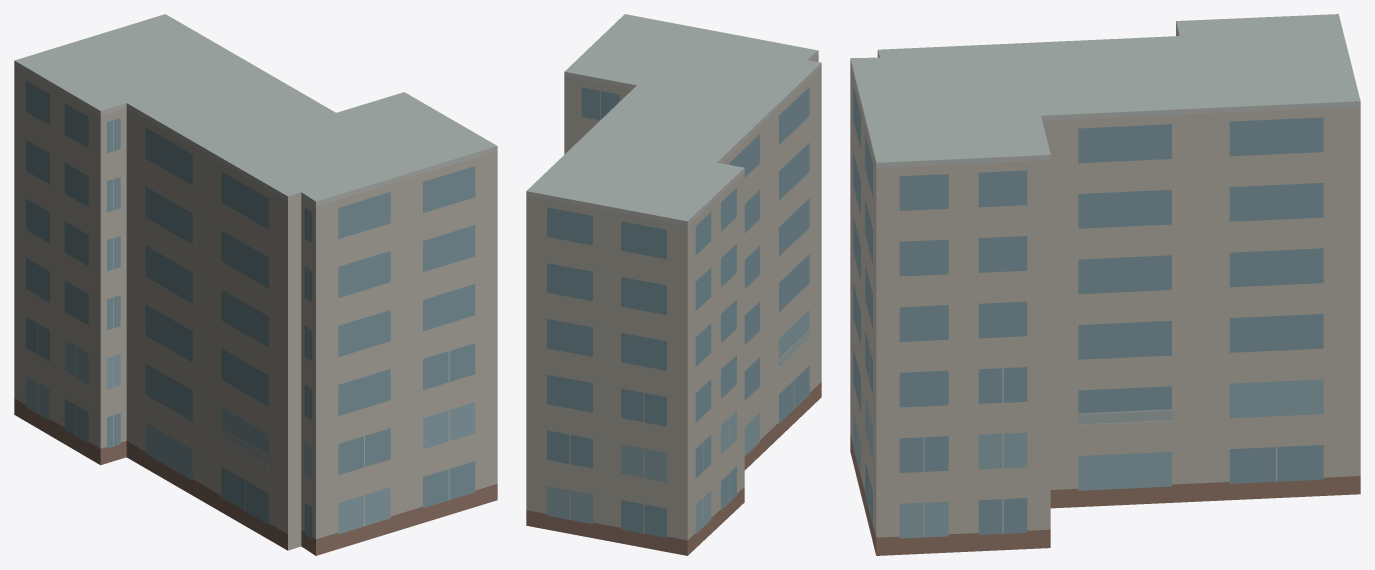
The model's file is survey-upis-32670635.glb.
3 renders of one model, left to right at view 1: azimuth 30°, elevation 25°; view 2: azimuth 150°, elevation 25°; view 3: azimuth 270°, elevation 25°, orthographic. The views are drawn at different scales.
Parts seen in each view (by area): view 1: survey-upis-32670635.tmp; view 2: survey-upis-32670635.tmp; view 3: survey-upis-32670635.tmp.
Part boxes in pixels (x1,y1,x2,y2): survey-upis-32670635.tmp: [14, 14, 497, 555]; survey-upis-32670635.tmp: [526, 14, 821, 555]; survey-upis-32670635.tmp: [850, 14, 1360, 555].
Size of the model in its own units: 14.71 by 18.1 by 21.31.
